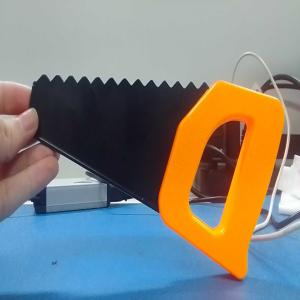serrote: (36, 73, 284, 281)
